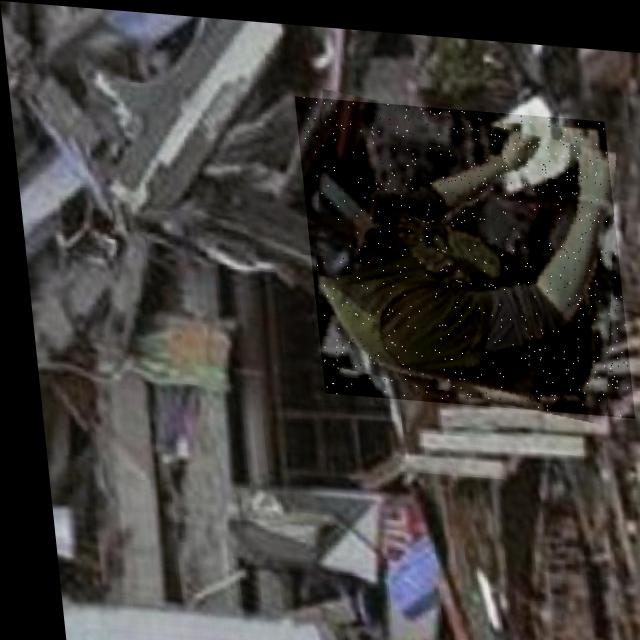Person in Rubble: (293, 90, 627, 407)
